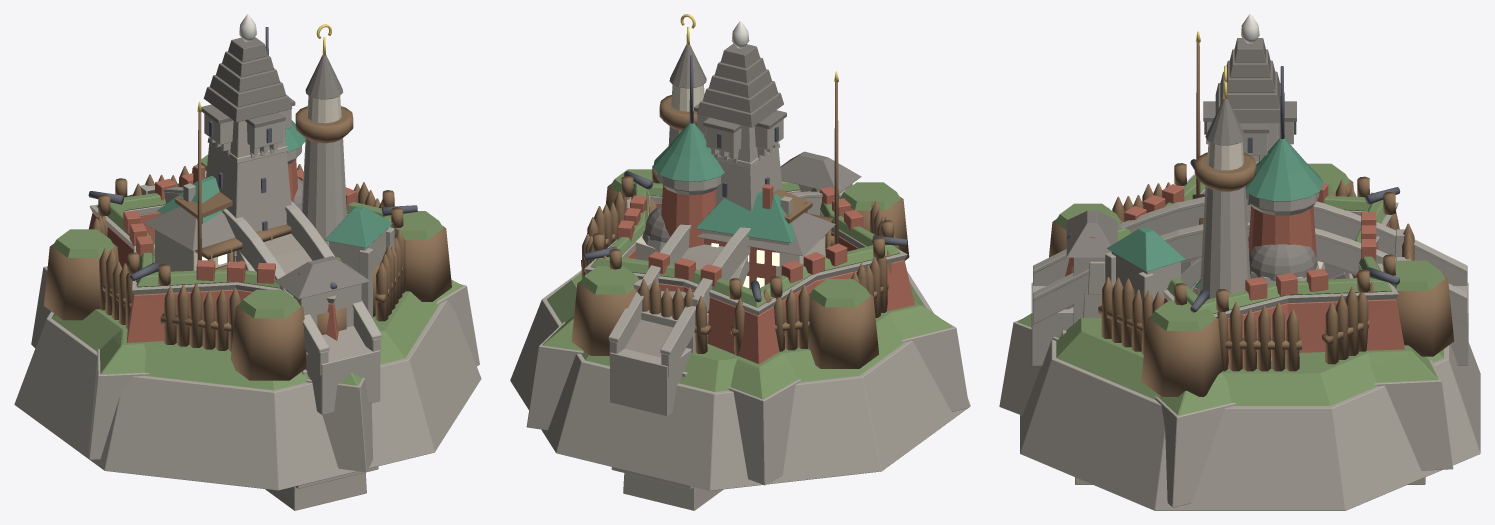
File: Caucasus_Sculpted_Fortresses_Pack.glb
The picture shows the model from 3 angles, left to right: view 1: azimuth 30°, elevation 25°; view 2: azimuth 150°, elevation 25°; view 3: azimuth 270°, elevation 25°; orthographic projection. The views are drawn at different scales.
Visible parts, largest first — view 1: CapStone, CapWood, CapTurf, ImpFortStone, BridgeIntactStone, VainakhStone, ImpFortBrick, CapRoof, VainakhSlate, ImpFortTurf, ImpFortRoof, CapPlaster (+4 smaller); view 2: CapStone, CapWood, ImpFortStone, BridgeIntactStone, ImpFortBrick, CapTurf, ImpFortTurf, ImpFortRoof, VainakhSlate, CapRoof, VainakhStone, ImpFortWood (+4 smaller); view 3: CapStone, CapWood, ImpFortStone, BridgeIntactStone, CapTurf, ImpFortBrick, ImpFortTurf, CapRoof, ImpFortRoof, VainakhSlate, ImpFortWood, ImpFortIron (+2 smaller).
Part boxes in pixels (<box>): CapStone: <box>14,138,481,490</box>; CapWood: <box>44,106,451,380</box>; CapTurf: <box>51,154,443,390</box>; ImpFortStone: <box>31,146,479,472</box>; BridgeIntactStone: <box>127,170,381,510</box>; VainakhStone: <box>154,109,291,261</box>; ImpFortBrick: <box>89,159,356,342</box>; CapRoof: <box>143,55,370,298</box>; VainakhSlate: <box>201,37,295,127</box>; ImpFortTurf: <box>47,193,462,385</box>; ImpFortRoof: <box>157,120,392,248</box>; CapPlaster: <box>155,95,341,271</box>; CapStone: <box>510,126,970,490</box>; CapWood: <box>571,82,909,368</box>; ImpFortStone: <box>526,173,969,485</box>; BridgeIntactStone: <box>608,190,845,510</box>; ImpFortBrick: <box>617,184,914,364</box>; CapTurf: <box>547,169,925,391</box>; ImpFortTurf: <box>542,180,952,399</box>; ImpFortRoof: <box>653,123,795,243</box>; VainakhSlate: <box>694,43,786,133</box>; CapRoof: <box>644,44,861,256</box>; VainakhStone: <box>697,114,783,211</box>; ImpFortWood: <box>593,158,893,299</box>; CapStone: <box>1020,186,1480,510</box>; CapWood: <box>1049,42,1453,396</box>; ImpFortStone: <box>999,174,1453,507</box>; BridgeIntactStone: <box>1031,196,1468,484</box>; CapTurf: <box>1055,163,1445,405</box>; ImpFortBrick: <box>1065,183,1404,368</box>; ImpFortTurf: <box>1018,175,1438,415</box>; CapRoof: <box>1066,98,1317,280</box>; ImpFortRoof: <box>1107,138,1323,288</box>; VainakhSlate: <box>1203,38,1296,133</box>; ImpFortWood: <box>1089,163,1395,311</box>; ImpFortIron: <box>1067,66,1400,312</box>.
Bounding box in the file's own units: 3.86 × 4.04 × 3.9.
